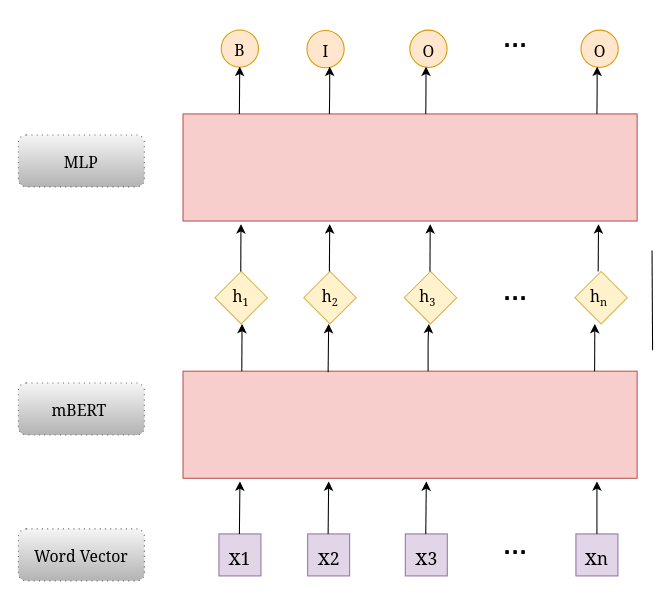
Some shapes in this 672 by 600 pixel diagram are drawn without their labels. Each missing label, with the centre of its shape:
Mutil Encoder Layer: the point at 409,424
Softmax: the point at 409,167
